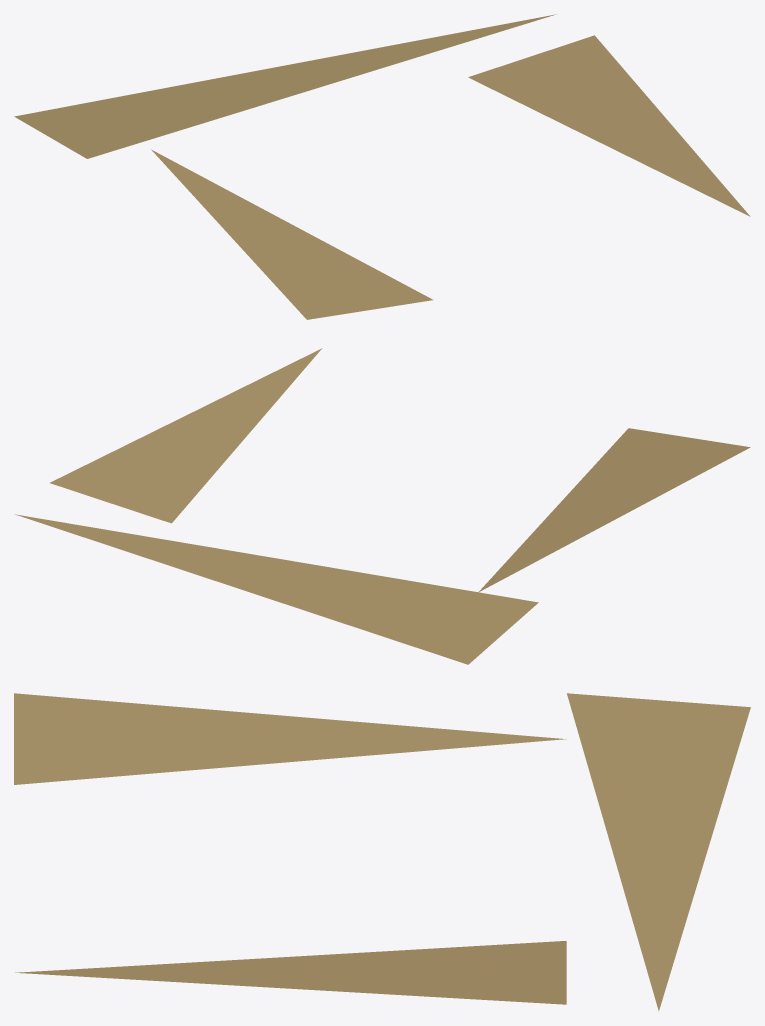
File: coast-coast-inlet.lod2.glb
The picture shows the model from 3 angles, top to bottom: view 1: azimuth 30°, elevation 25°; view 2: azimuth 150°, elevation 25°; view 3: azimuth 270°, elevation 25°; orthographic projection. The views are drawn at different scales.
Parts seen in each view (by area): view 1: coast-coast-inlet__body; view 2: coast-coast-inlet__body; view 3: coast-coast-inlet__body.
Part boxes in pixels (left/top/right/bottom): coast-coast-inlet__body: left=14, top=14, right=750, bottom=319; coast-coast-inlet__body: left=15, top=348, right=750, bottom=664; coast-coast-inlet__body: left=14, top=693, right=750, bottom=1011.
Size of the model in its own units: 4 by 0.0833 by 4.
